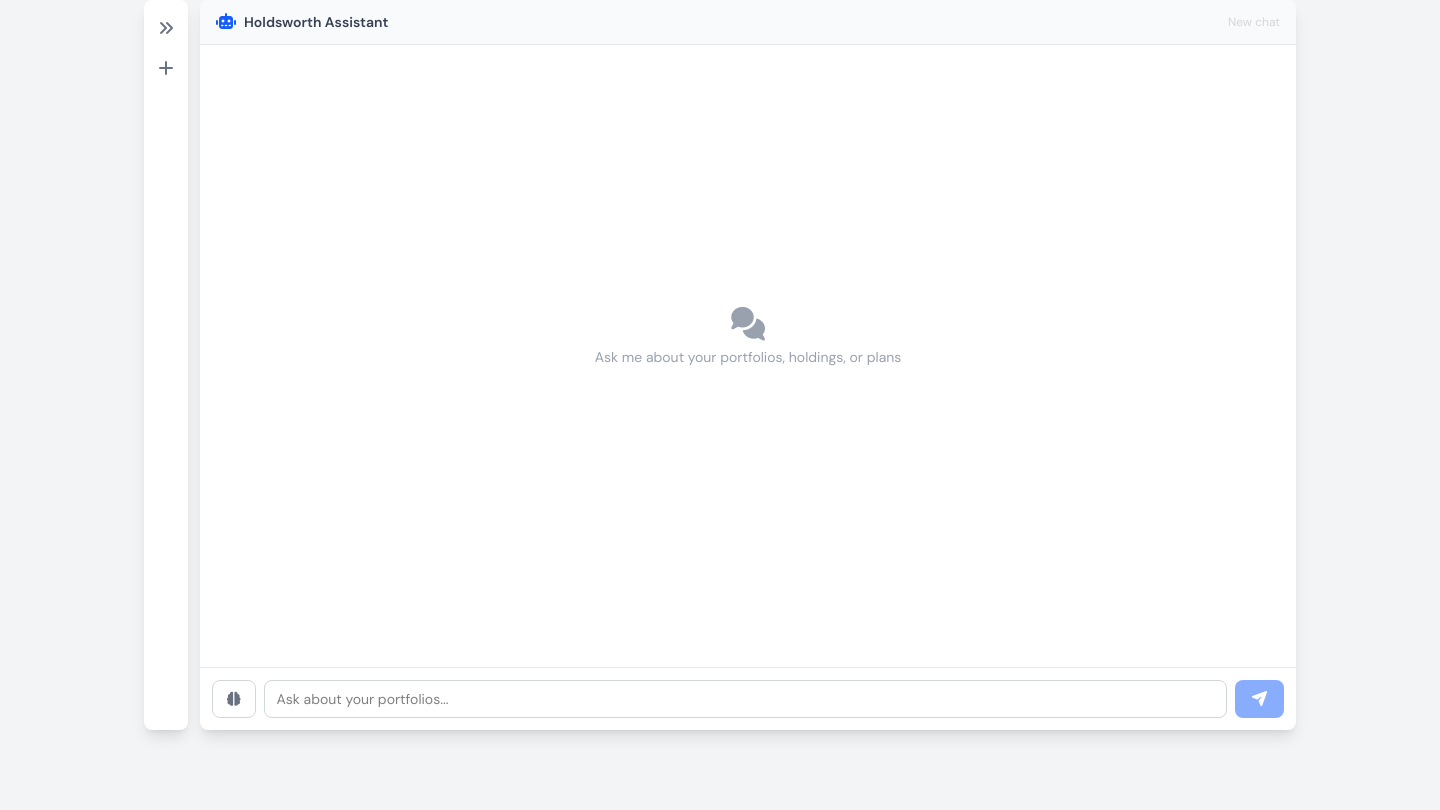
it: /chat page › collapsible sidebar › keeps the overlay open while renaming on a narrow screen
This screenshot has width=1440, height=810.
(page scrolled)
Click the button named "Show conversations" at point(166, 28), box left=150, top=12, right=182, bottom=44
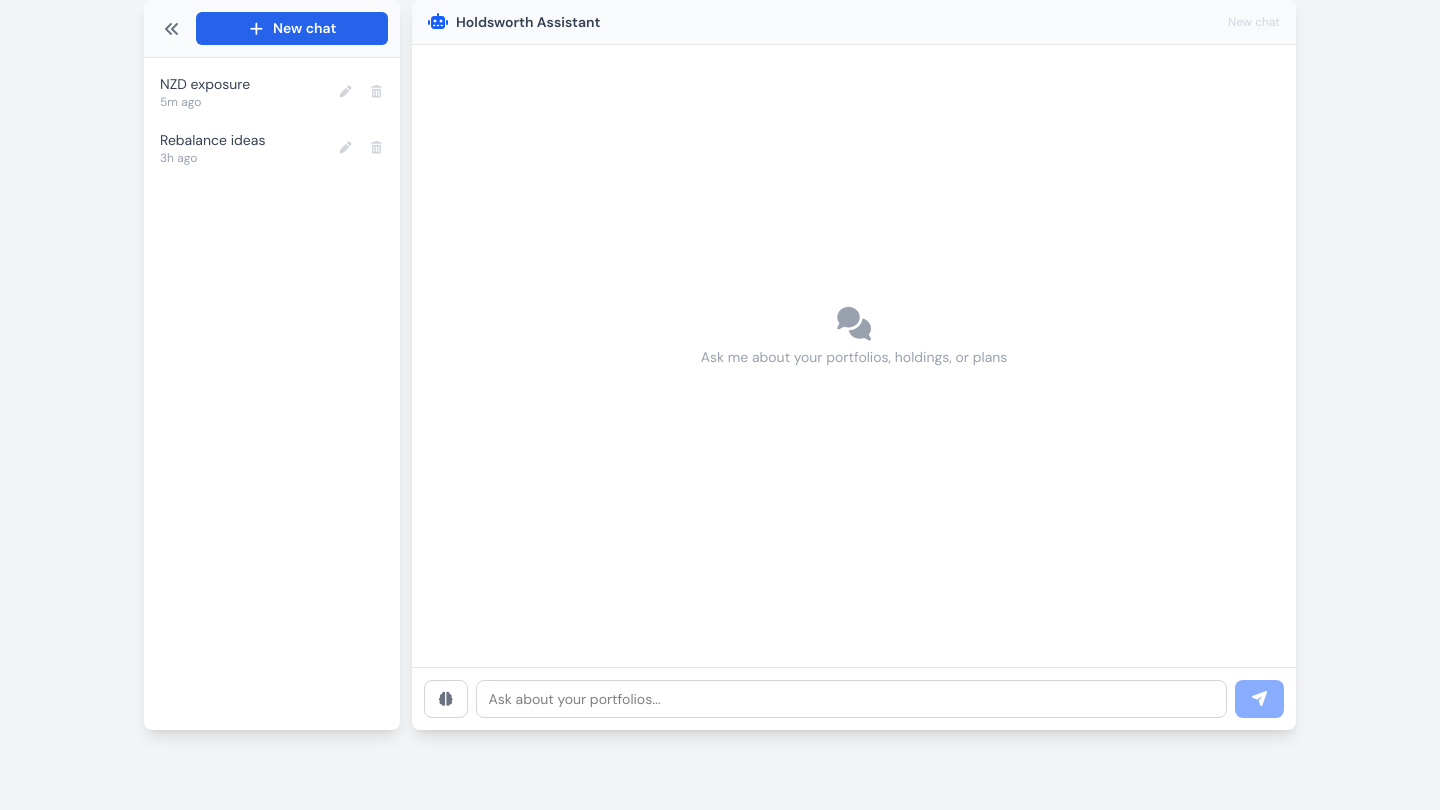
expect the text "Rebalance ideas" is shown: met, box left=160, top=131, right=265, bottom=149
Click the button named "Rename \"Rebalance ideas\"" at point(346, 148), box left=330, top=132, right=361, bottom=164
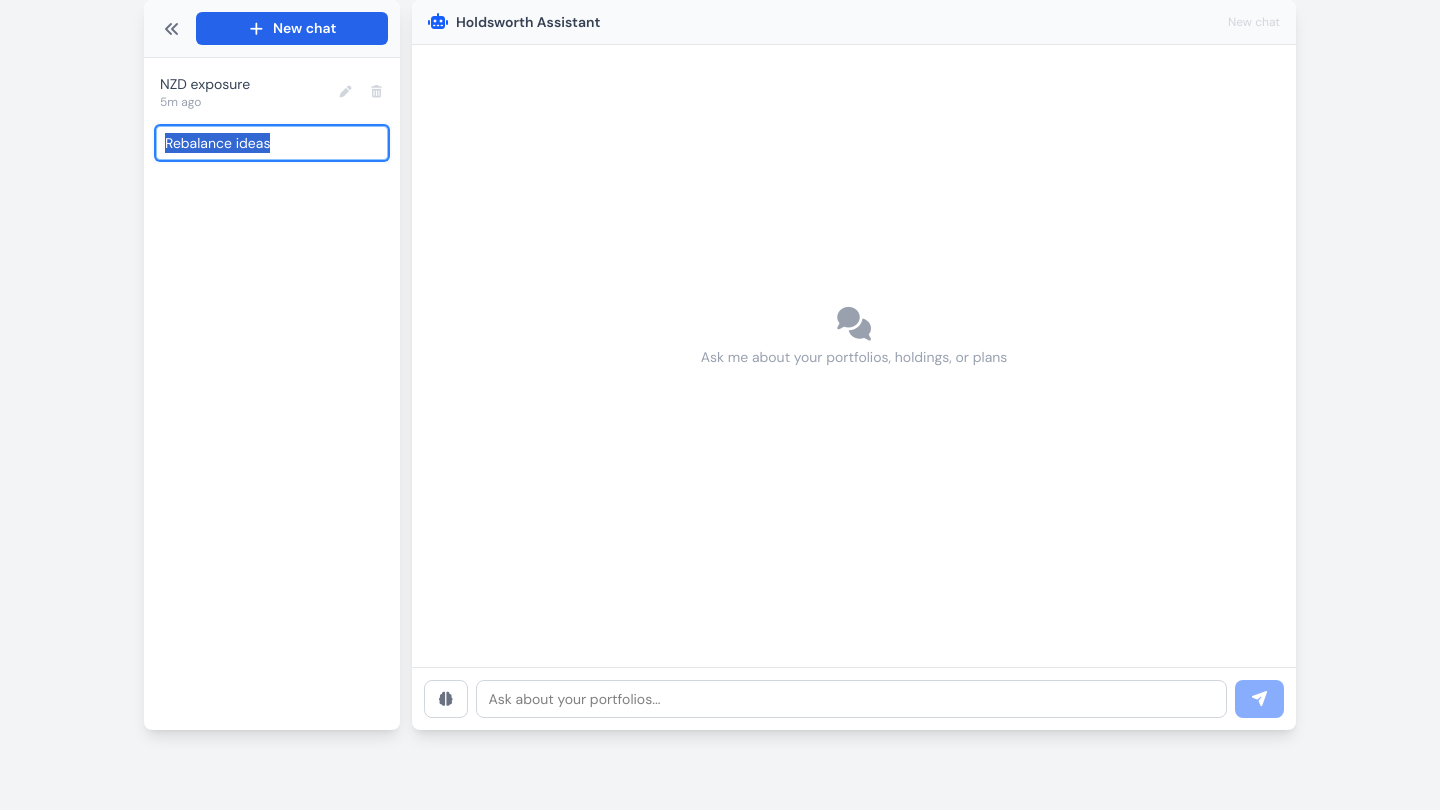
Replace the text in the field named "conversation title" with "Hedging plan" at point(272, 143), box left=156, top=126, right=388, bottom=160
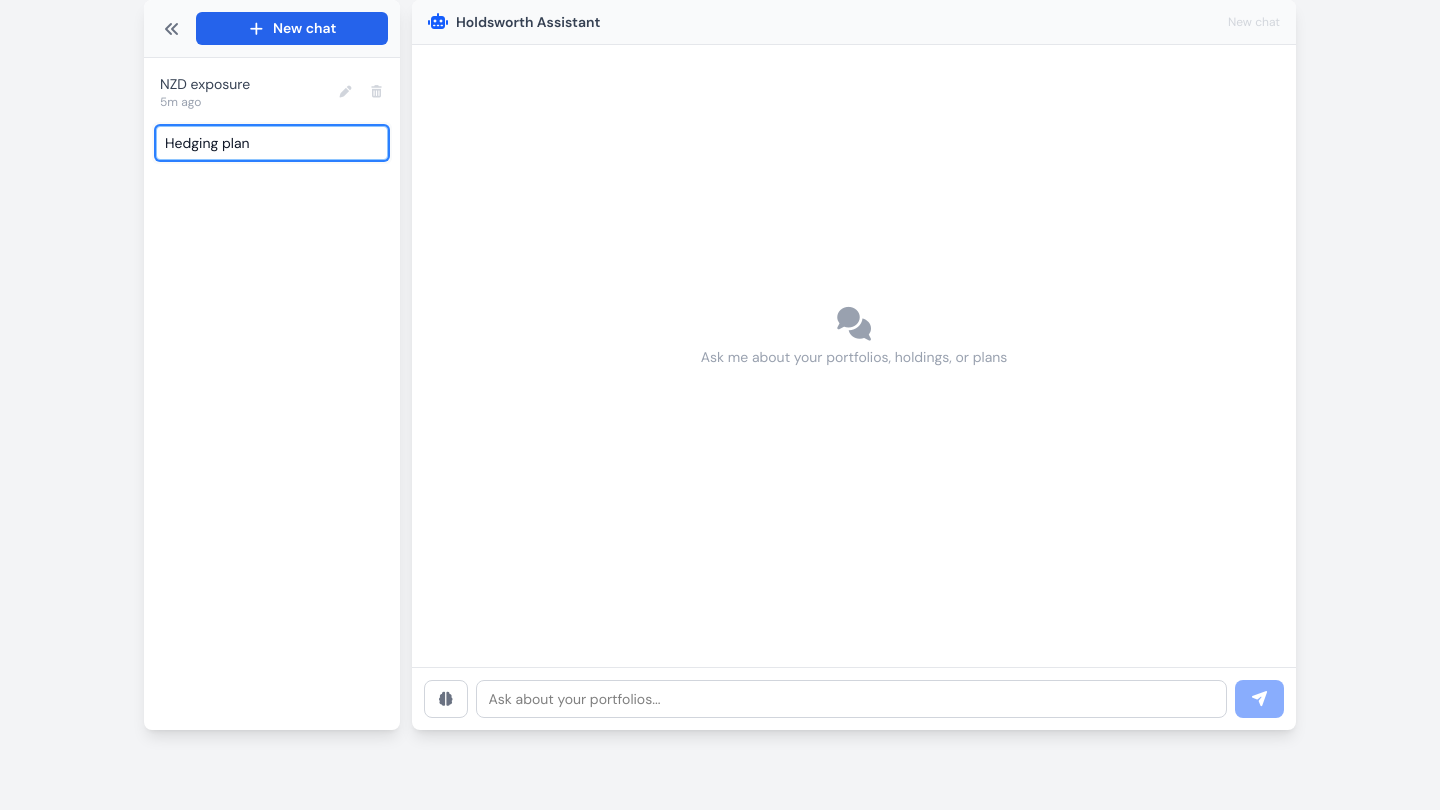
Press Enter in the field named "conversation title", box left=156, top=126, right=388, bottom=160
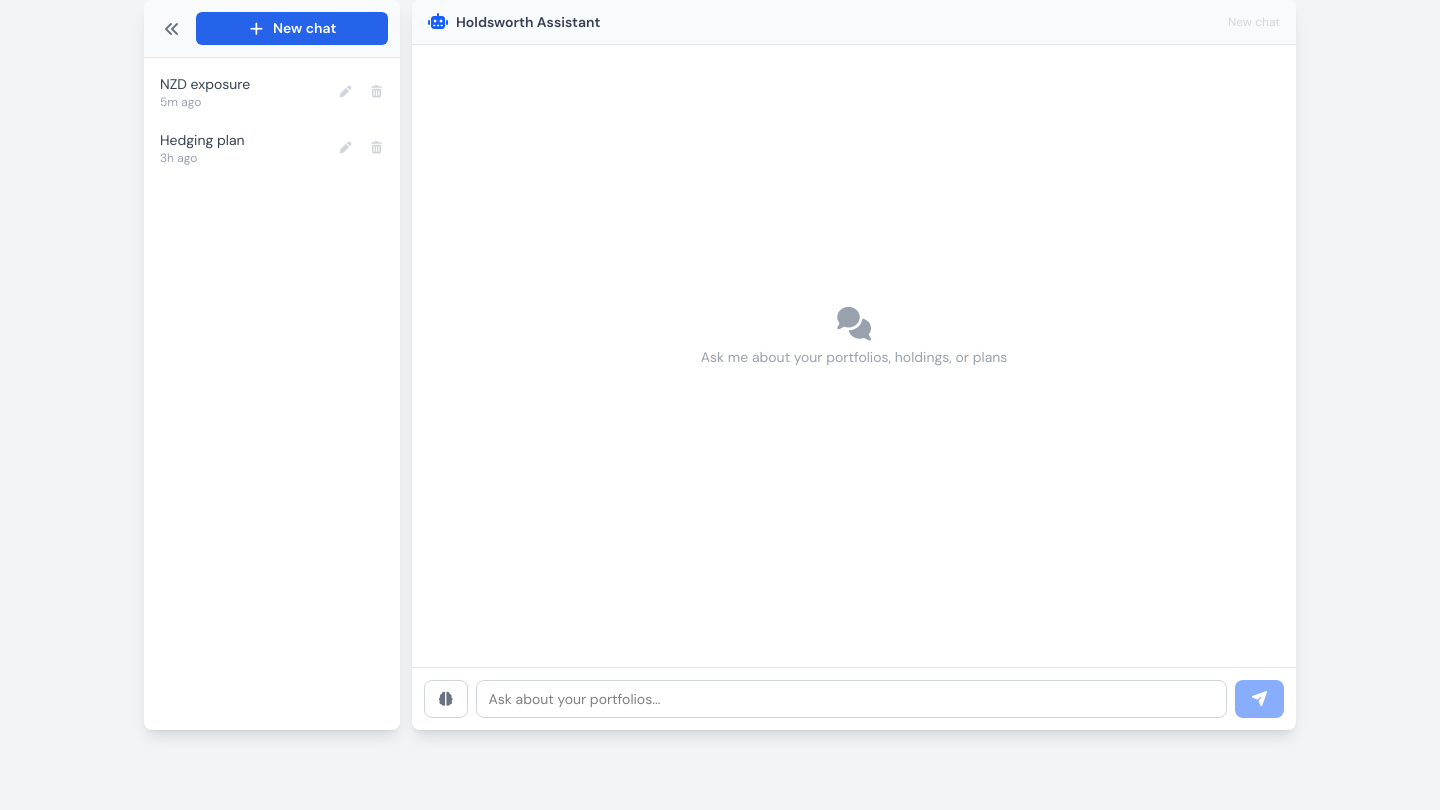
expect the navigation bar named "conversations" is shown: met, box left=144, top=0, right=400, bottom=730
expect the text "Hedging plan" is shown: met, box left=160, top=131, right=244, bottom=149
